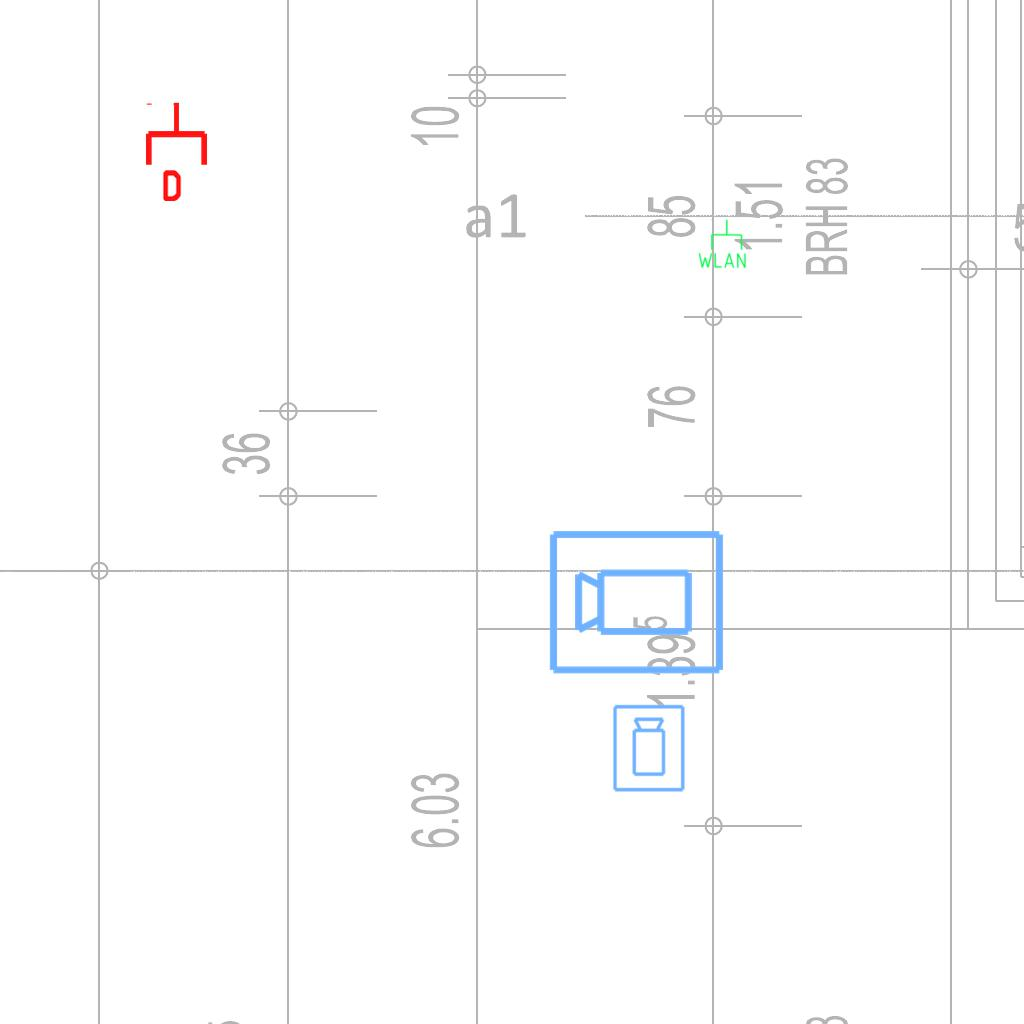Datenanschluss_einfach: (142, 101, 211, 201)
KFO_Kamera_mit_Festobjektiv: (546, 524, 728, 678), (611, 703, 688, 794)
WLAN: (696, 218, 748, 270)
